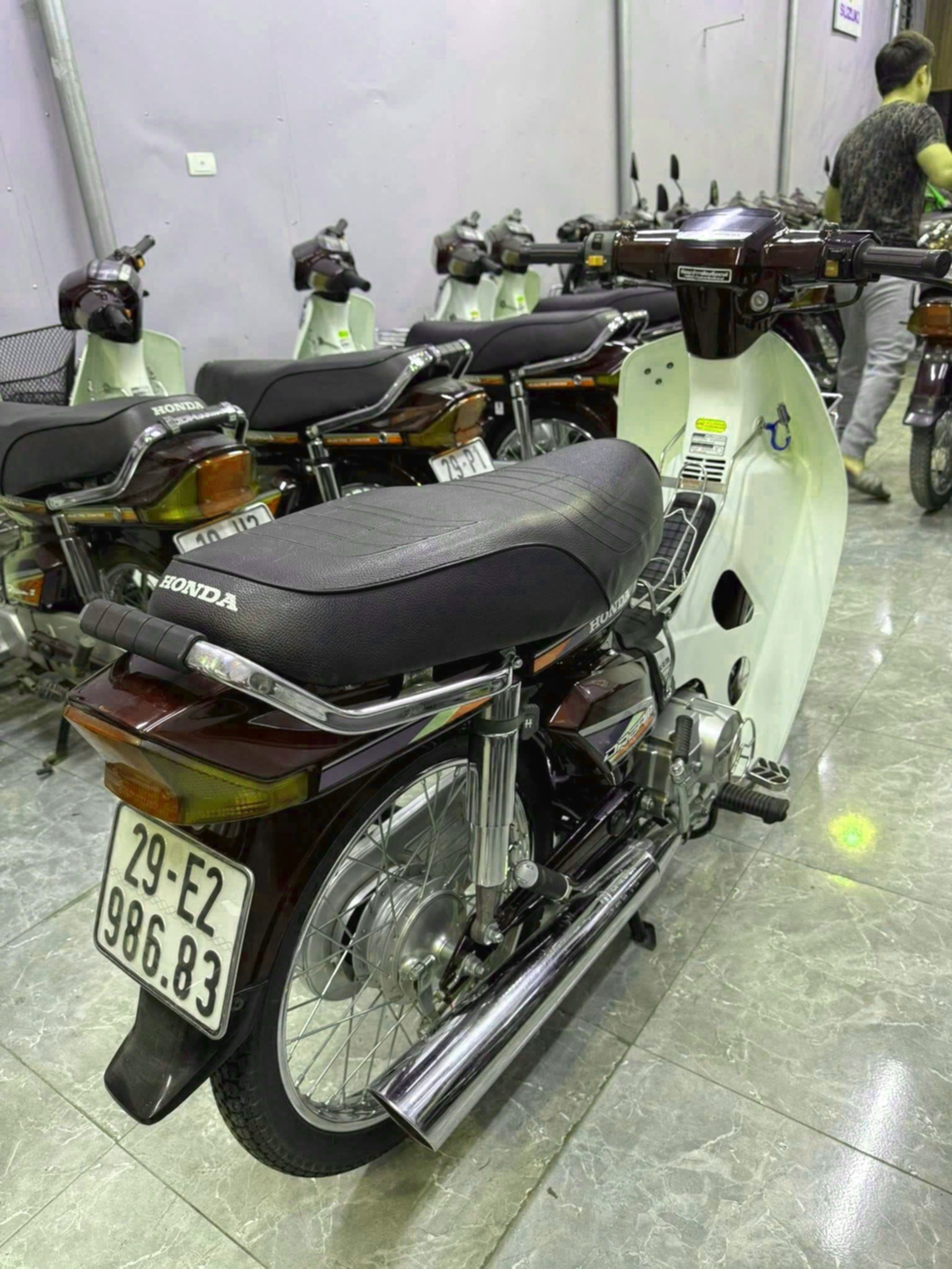Bien-so: (75, 829, 240, 1072), (170, 532, 272, 582), (420, 471, 492, 522)
